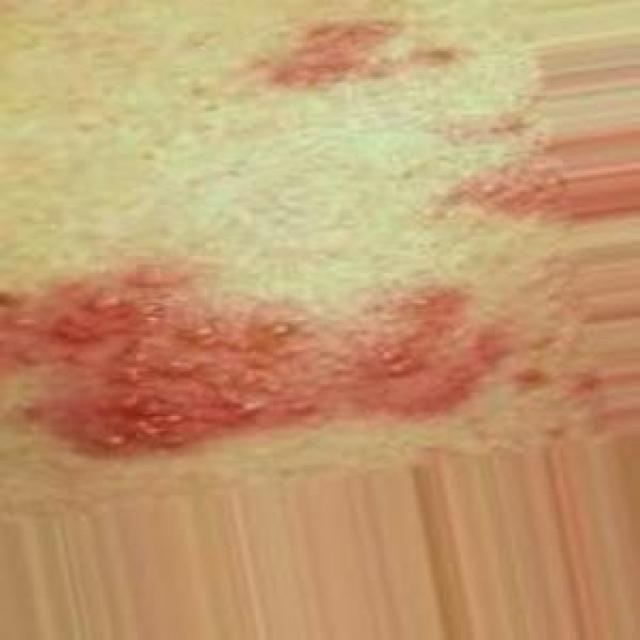Shingles: (0, 253, 519, 459), (259, 12, 407, 89), (442, 149, 564, 228)
